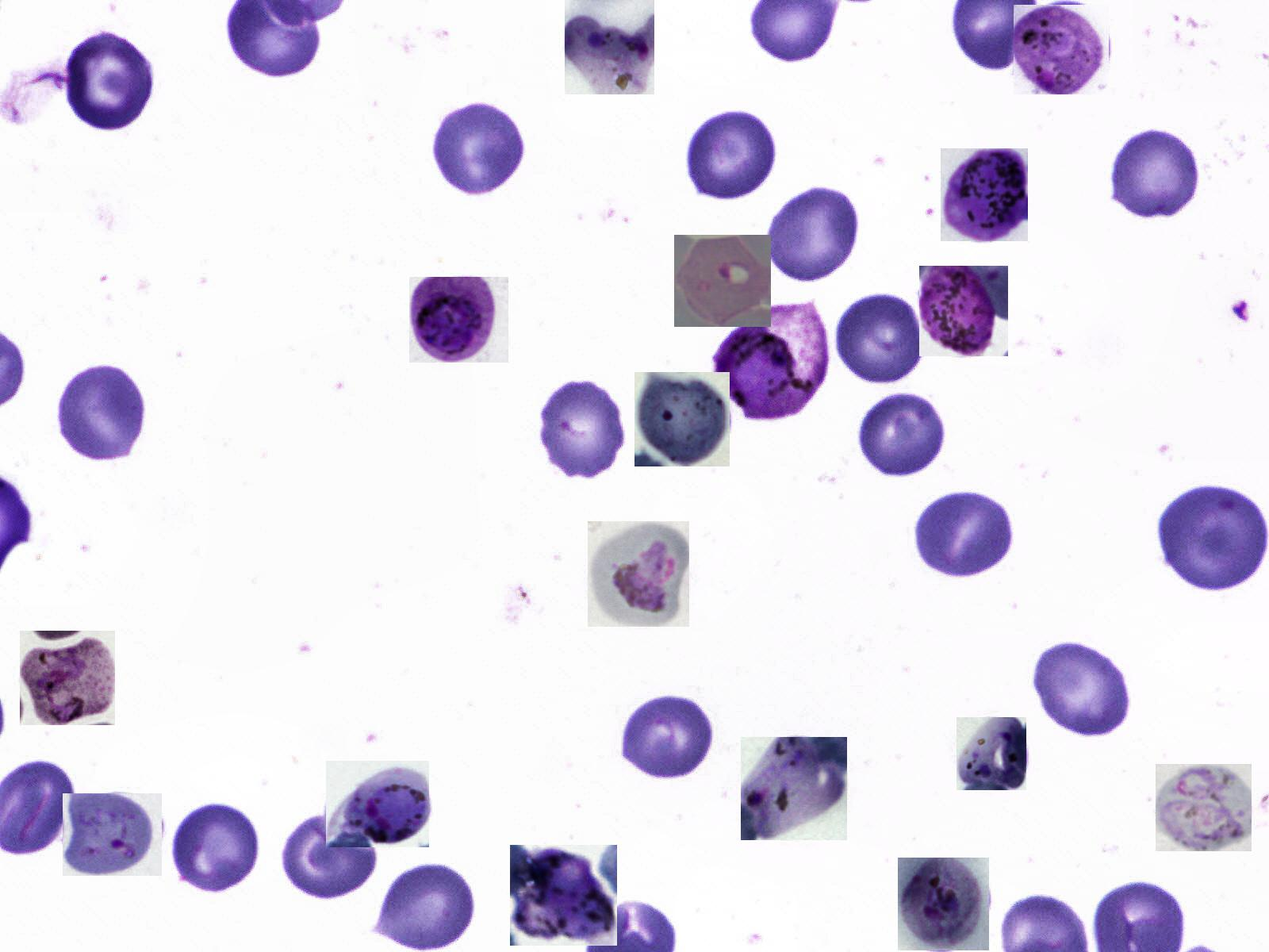Infected: (713, 301, 830, 429), (741, 737, 847, 840), (510, 845, 617, 946), (588, 521, 689, 627), (634, 372, 730, 466), (20, 631, 115, 725), (675, 235, 772, 327), (326, 761, 429, 847), (409, 277, 508, 363), (1014, 5, 1109, 94), (898, 858, 989, 950), (565, 0, 654, 94), (1156, 764, 1252, 851), (63, 793, 162, 876), (919, 266, 1008, 356), (941, 149, 1028, 241), (957, 717, 1026, 790)
Uninfected: (1156, 481, 1266, 588), (761, 182, 860, 283), (534, 377, 628, 482), (911, 487, 1017, 580), (1033, 639, 1130, 739), (48, 365, 147, 462), (65, 33, 157, 136), (369, 863, 477, 950), (424, 102, 523, 193), (615, 694, 717, 781), (835, 293, 926, 384), (683, 110, 773, 202), (171, 808, 267, 892), (1109, 131, 1198, 221), (282, 815, 374, 900), (858, 393, 949, 476)
